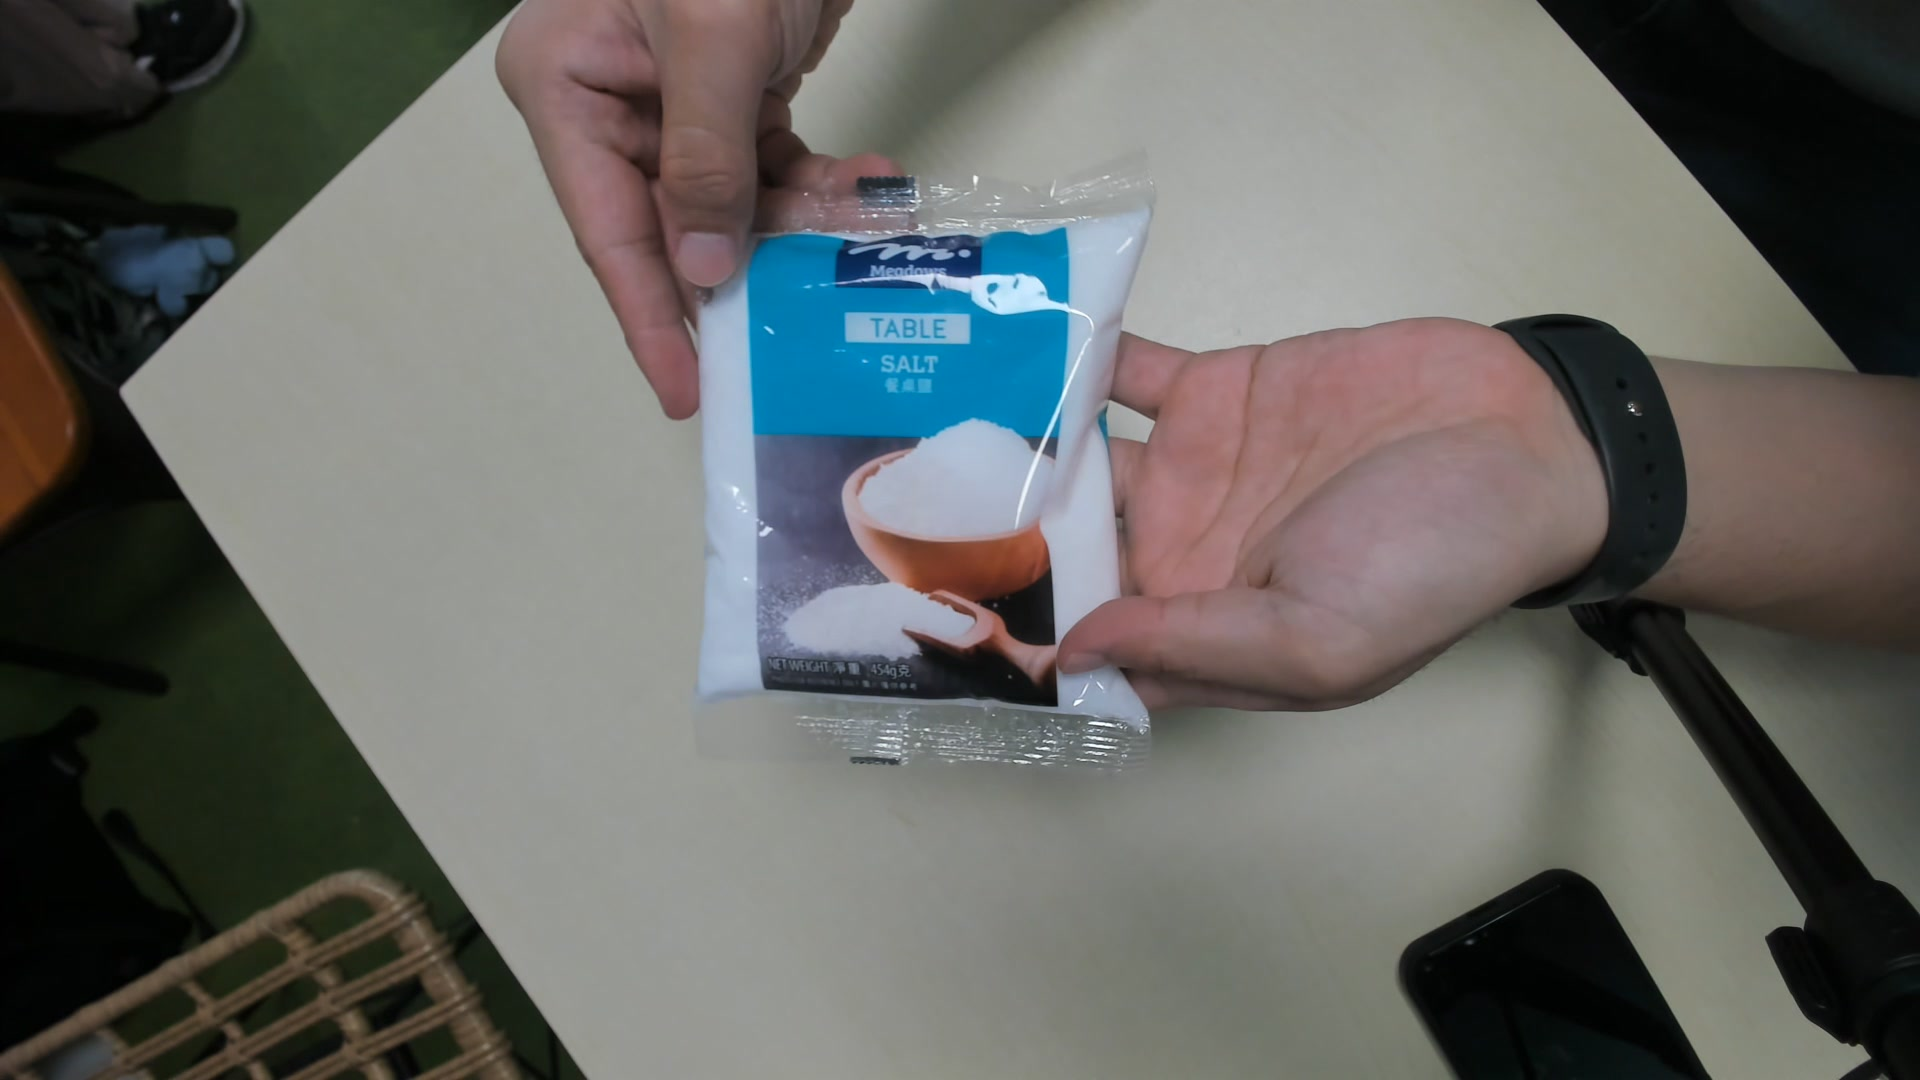Salt_400-499g_NonHalal_NonHealthy: (698, 174, 1149, 775)
